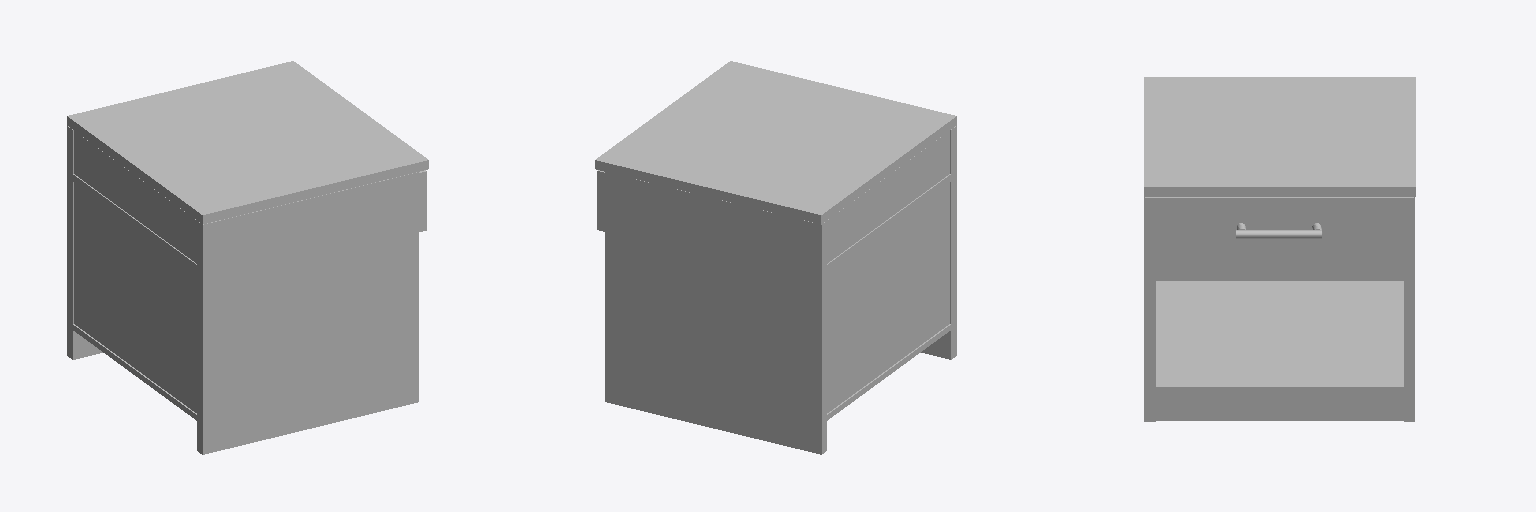
File: night table.obj
3 renders of one model, left to right at view 1: azimuth 30°, elevation 25°; view 2: azimuth 150°, elevation 25°; view 3: azimuth 270°, elevation 25°, orthographic.
Parts seen in each view (by area): view 1: Cube; view 2: Cube; view 3: Cube, Cylinder.
Boxes of the visible parts, x1=… form: Cube: x1=67, y1=61, x2=428, y2=454; Cube: x1=595, y1=61, x2=956, y2=454; Cube: x1=1144, y1=77, x2=1415, y2=421; Cylinder: x1=1236, y1=230, x2=1321, y2=238.
Bounding box in the file's own units: 2.24 × 2.12 × 2.17.